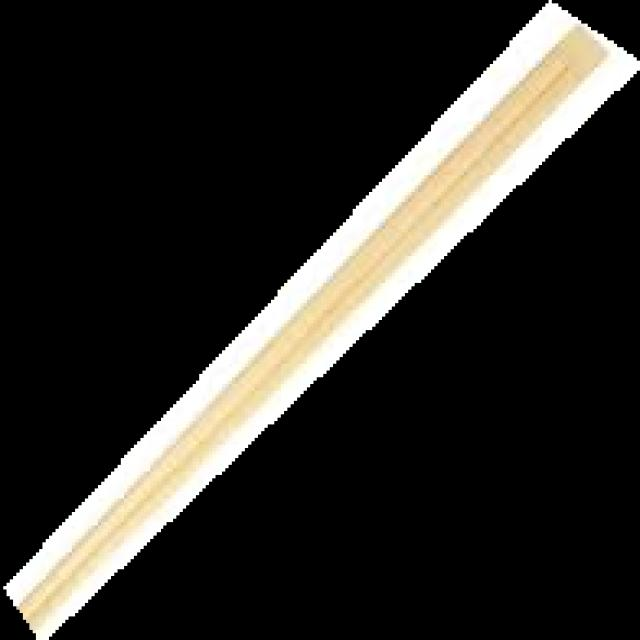others: (2, 1, 640, 640)
